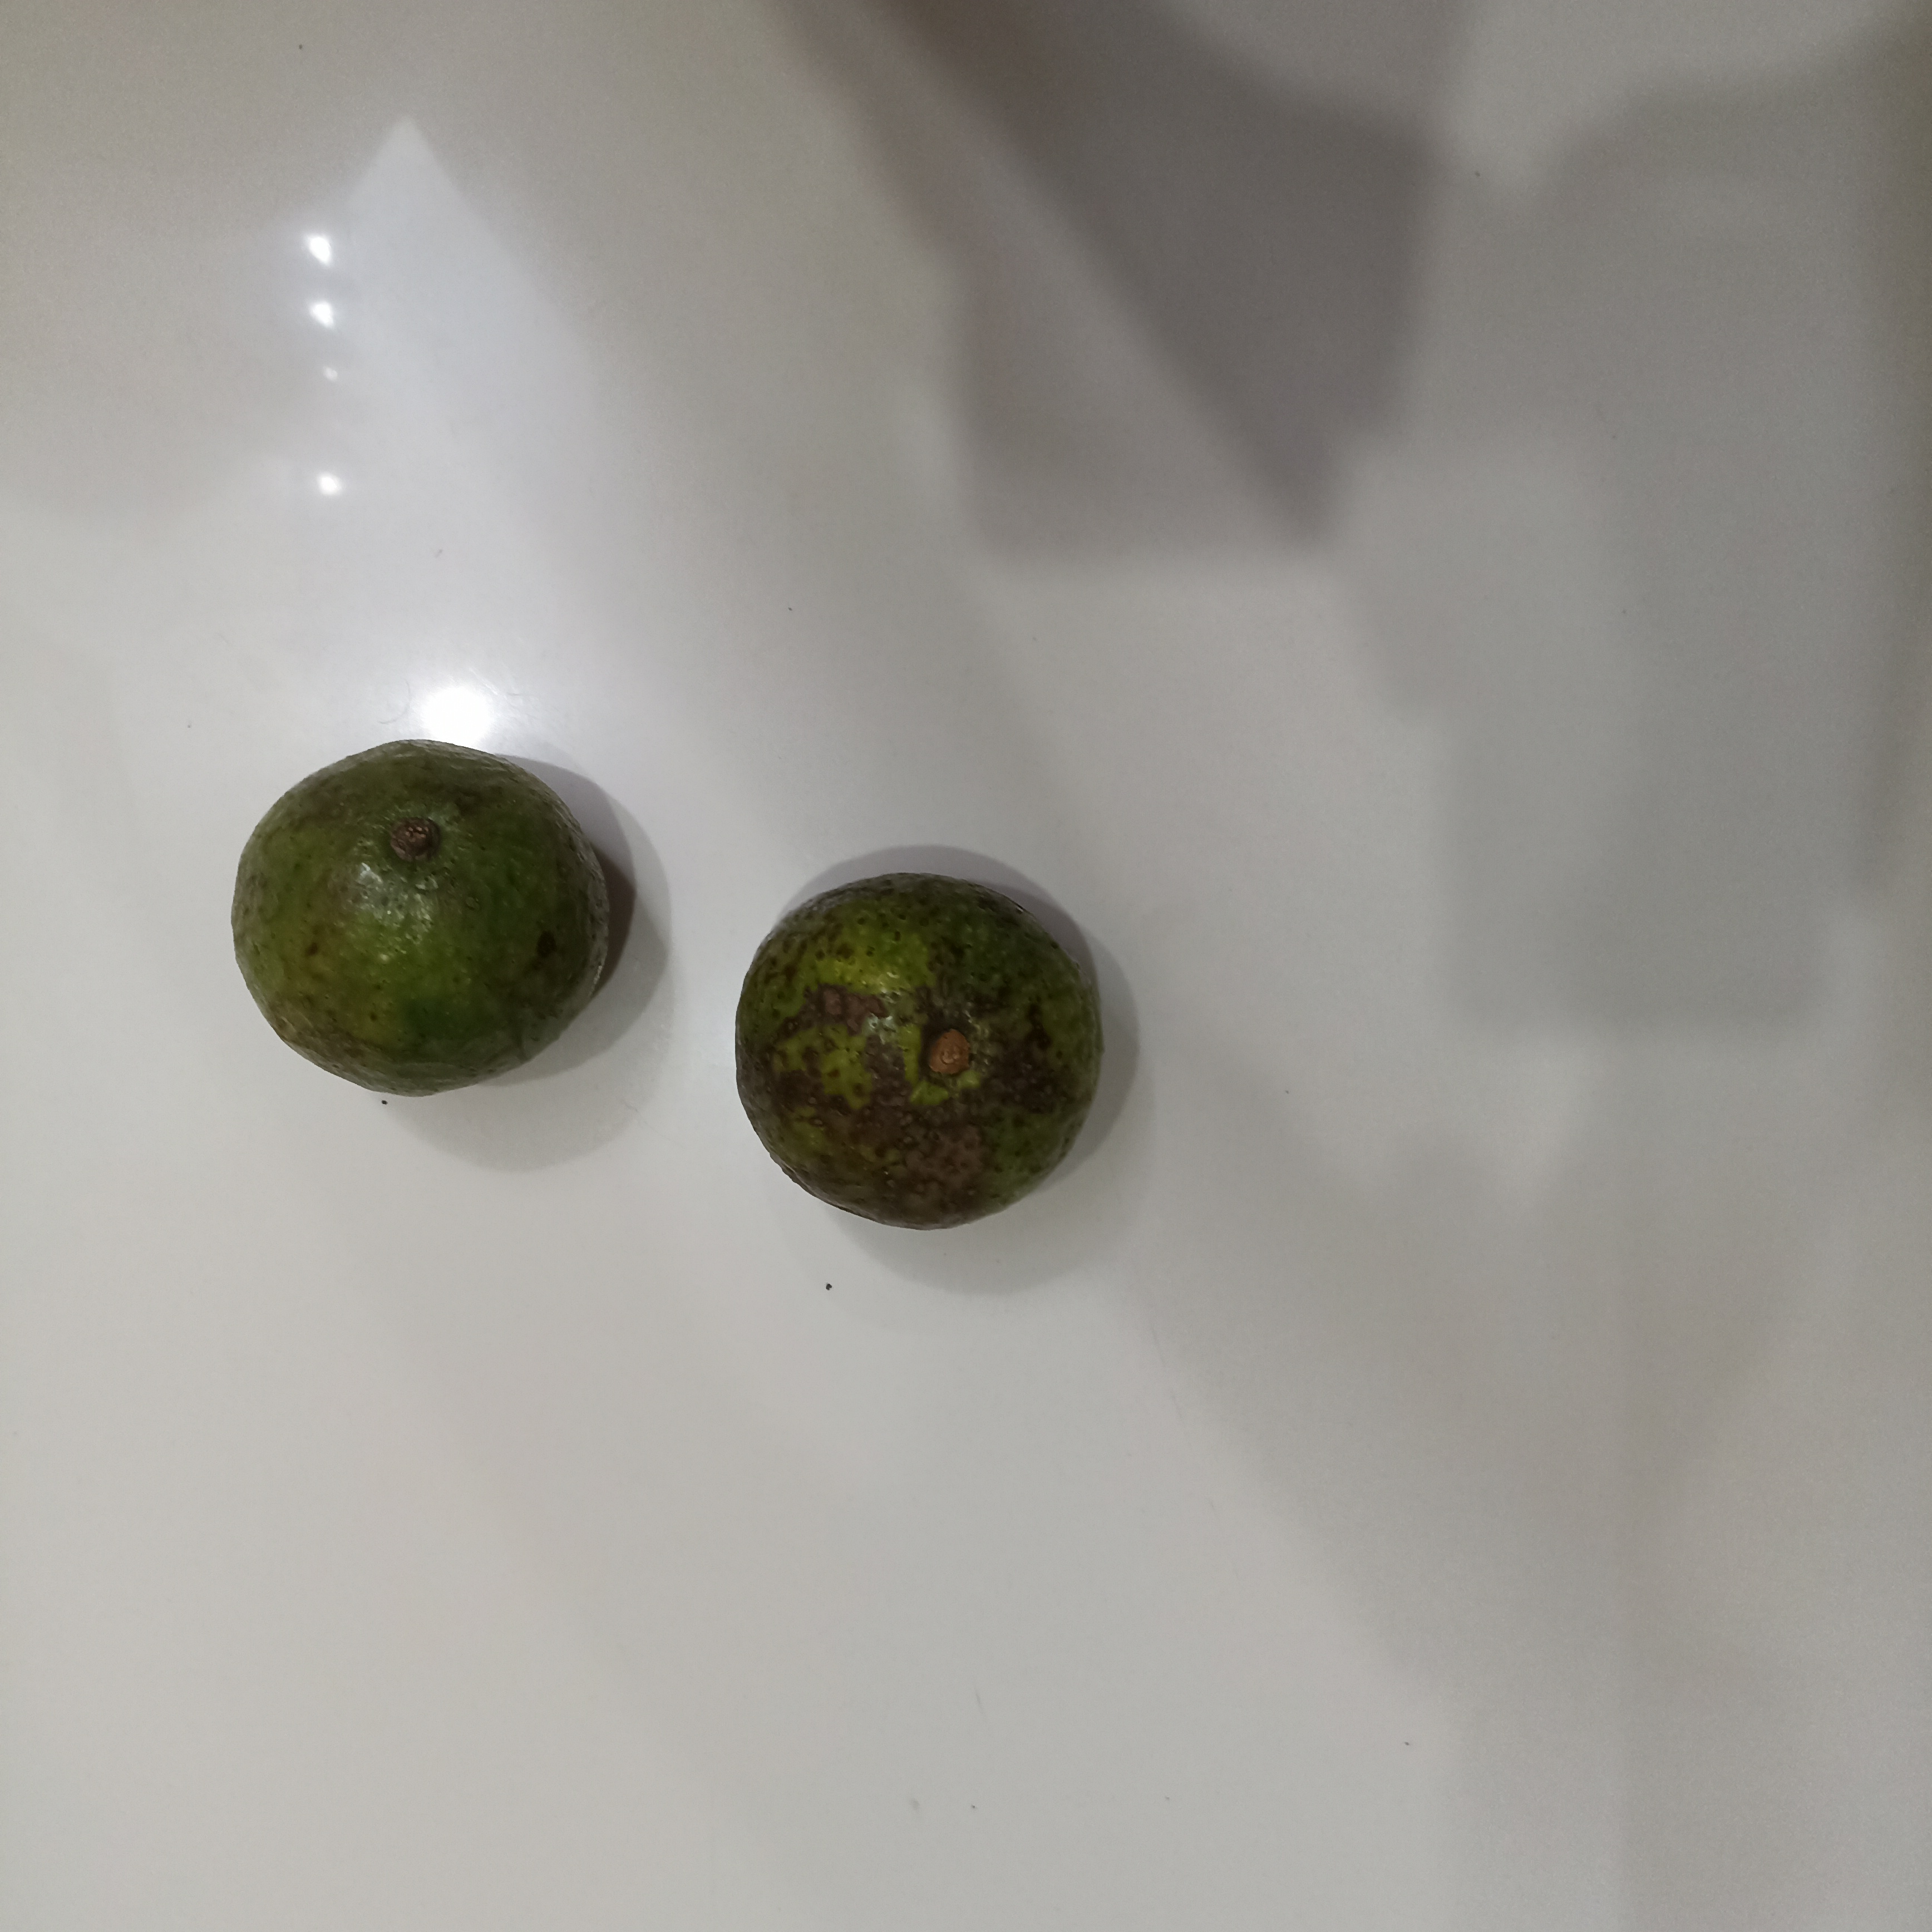Bo: (232, 741, 614, 1104), (734, 867, 1102, 1230)
